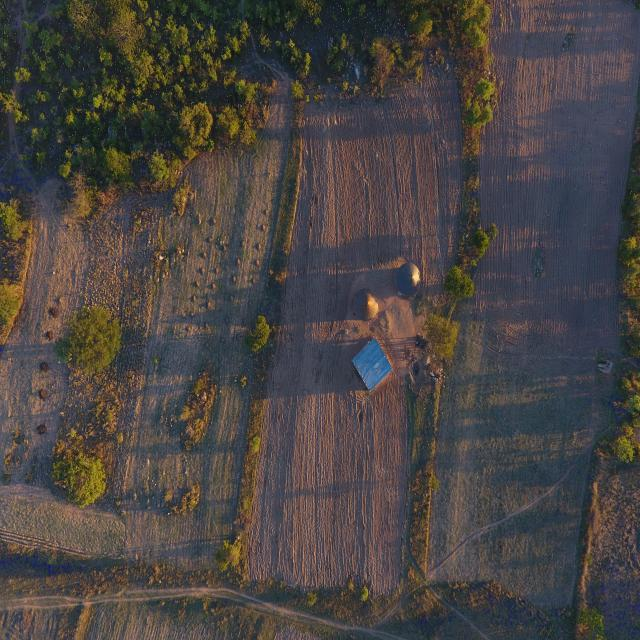boundaries: (216, 109, 329, 586), (395, 95, 502, 593)
